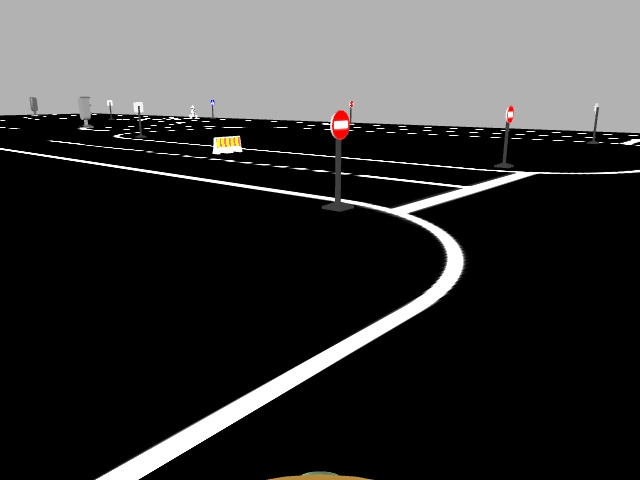ClosedRoadStand: (212, 135, 243, 150)
NoEntry: (325, 106, 351, 142)
